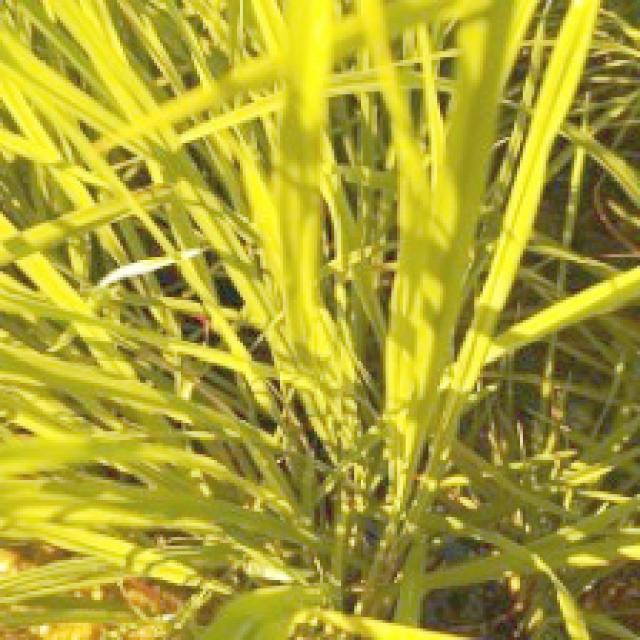health: (201, 0, 362, 469)
